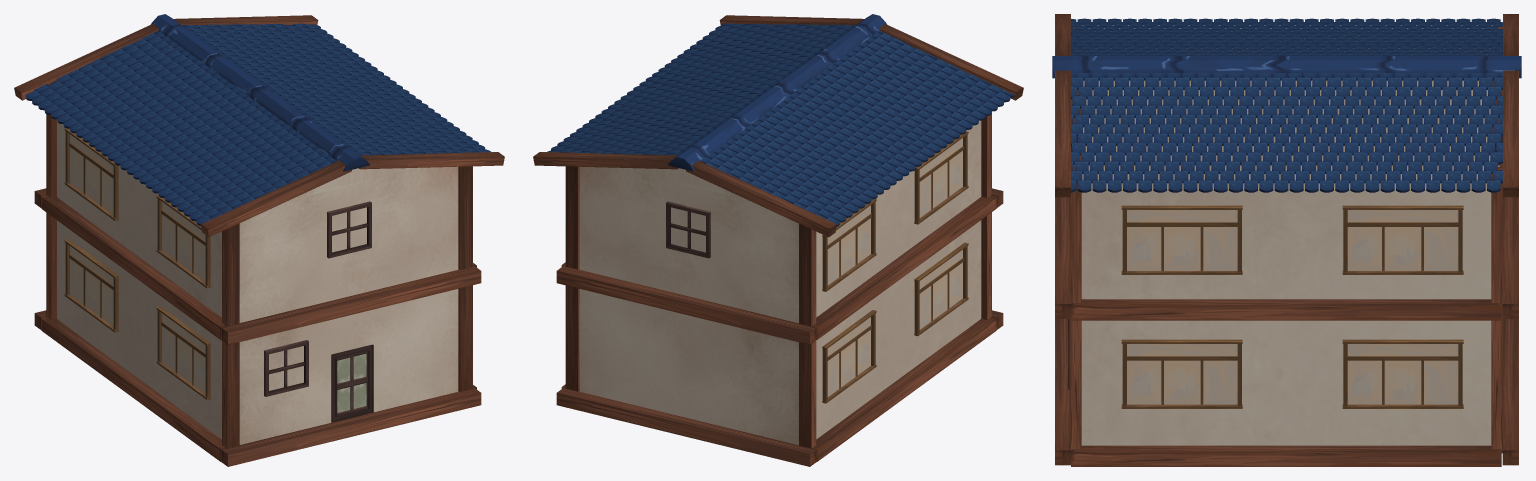
Rendered from Nha 7.fbx.
3 renders of one model, left to right at view 1: azimuth 30°, elevation 25°; view 2: azimuth 150°, elevation 25°; view 3: azimuth 270°, elevation 25°, orthographic. The views are drawn at different scales.
Parts seen in each view (by area): view 1: Cube.022; view 2: Cube.022; view 3: Cube.022.
Part boxes in pixels (box(x1,y1,x2,y2)): Cube.022: box(14, 14, 504, 466); Cube.022: box(533, 14, 1023, 466); Cube.022: box(1052, 14, 1521, 466).
Size of the model in its own units: 976 by 874 by 1111.
